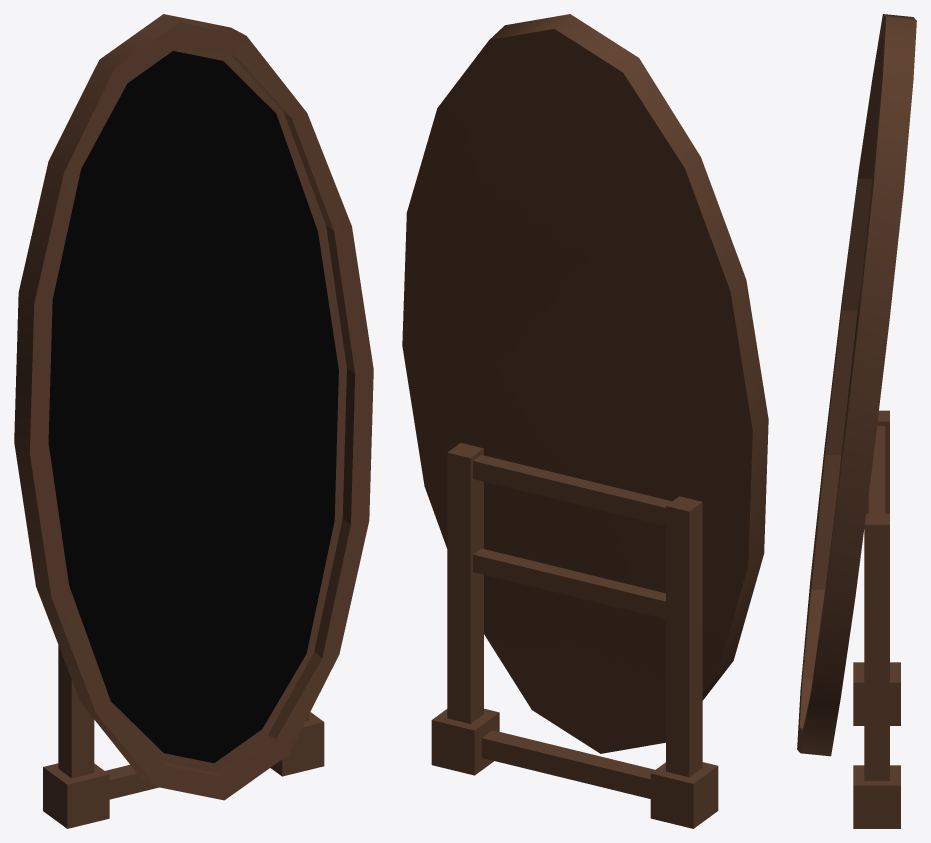
The model's file is low poly stand mirror.fbx.
3 views of the same model, side by side, from view 1: azimuth 30°, elevation 25°; view 2: azimuth 150°, elevation 25°; view 3: azimuth 270°, elevation 25° (orthographic). The views are drawn at different scales.
Visible parts, largest first — view 1: low_poly_stand_mirror; view 2: low_poly_stand_mirror; view 3: low_poly_stand_mirror.
Part boxes in pixels (x1,y1,x2,y2): low_poly_stand_mirror: [14, 14, 373, 828]; low_poly_stand_mirror: [402, 14, 768, 828]; low_poly_stand_mirror: [797, 14, 916, 828].
Size of the model in its own units: 4.27 by 9.06 by 1.31.
